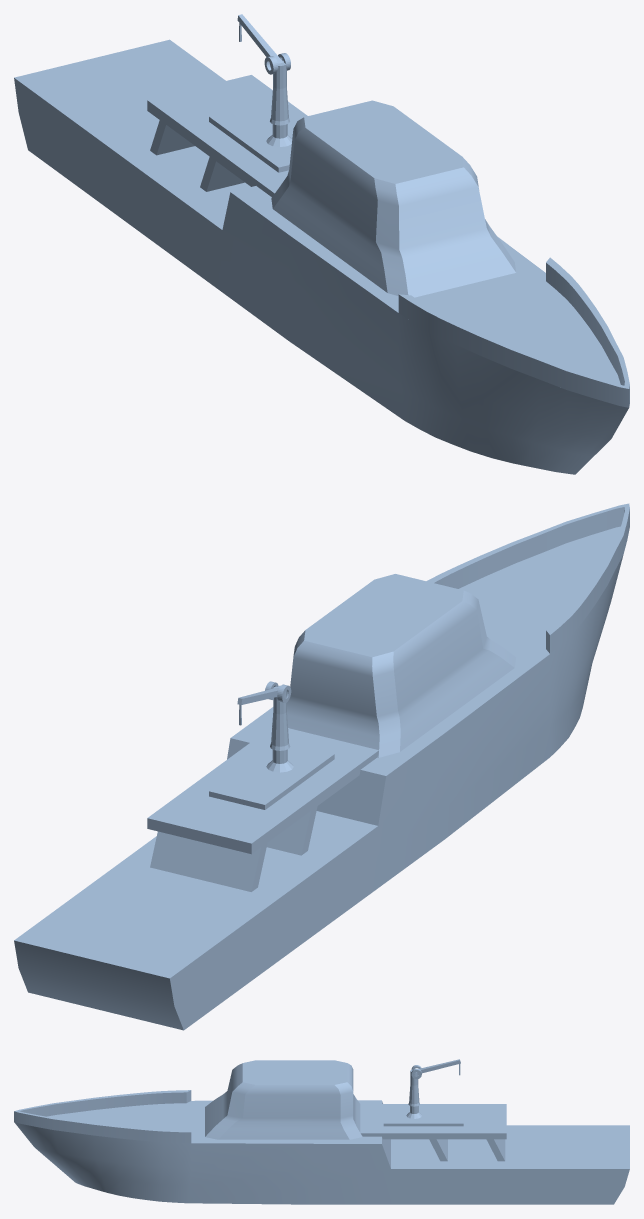
File: Blockout_Minehunter_Mesh.fbx
The picture shows the model from 3 angles, top to bottom: view 1: azimuth 30°, elevation 25°; view 2: azimuth 150°, elevation 25°; view 3: azimuth 270°, elevation 25°; orthographic projection. The views are drawn at different scales.
Parts seen in each view (by area): view 1: Mijnenjager, cabin, platform, deck, crane; view 2: Mijnenjager, cabin, platform, deck, crane; view 3: Mijnenjager, cabin, deck, platform, crane.
Part boxes in pixels (left/top/right/bottom): Mijnenjager: left=14, top=39, right=628, bottom=474; cabin: left=271, top=100, right=515, bottom=297; platform: left=147, top=75, right=307, bottom=196; deck: left=398, top=257, right=629, bottom=407; crane: left=209, top=14, right=295, bottom=172; Mijnenjager: left=14, top=526, right=623, bottom=1030; cabin: left=272, top=574, right=515, bottom=757; platform: left=147, top=727, right=378, bottom=891; deck: left=426, top=503, right=629, bottom=653; crane: left=209, top=685, right=334, bottom=809; Mijnenjager: left=14, top=1100, right=629, bottom=1204; cabin: left=205, top=1060, right=362, bottom=1139; deck: left=14, top=1090, right=191, bottom=1143; platform: left=360, top=1104, right=506, bottom=1161; crane: left=383, top=1059, right=463, bottom=1126.
Bounding box in the file's own units: 2160 × 2846 × 12899.
